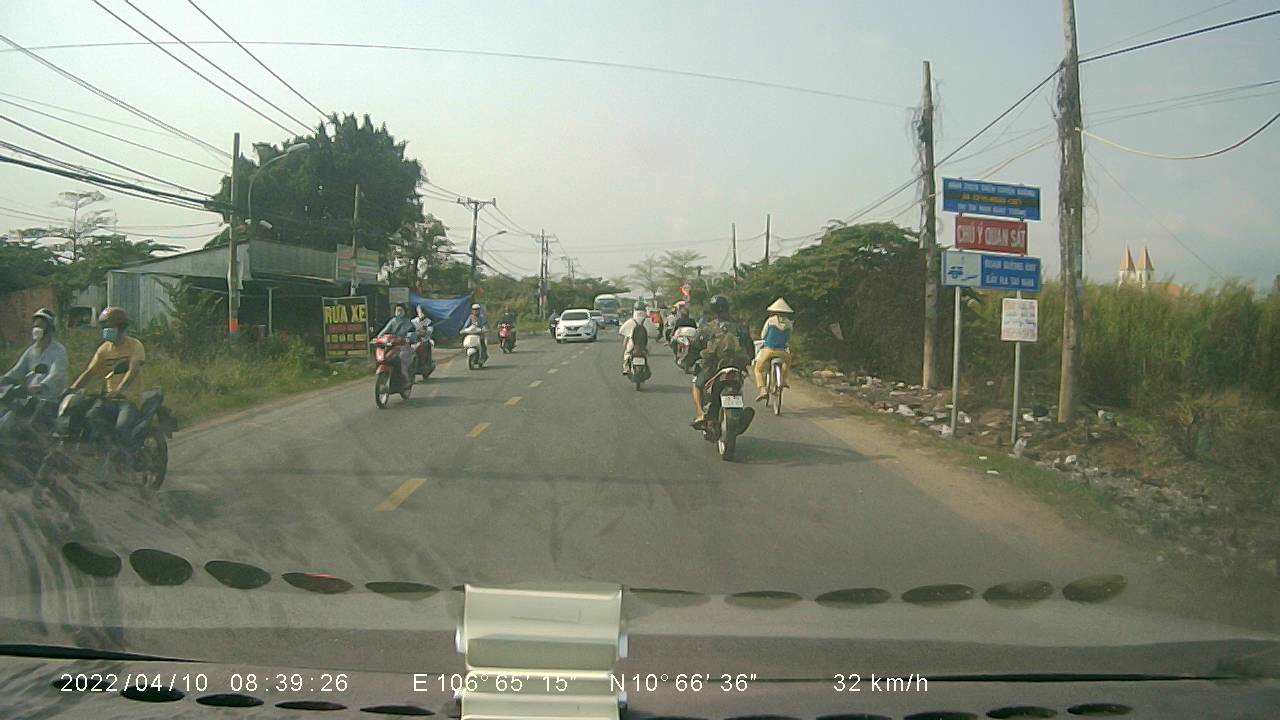Bien khac: (939, 249, 982, 288)
